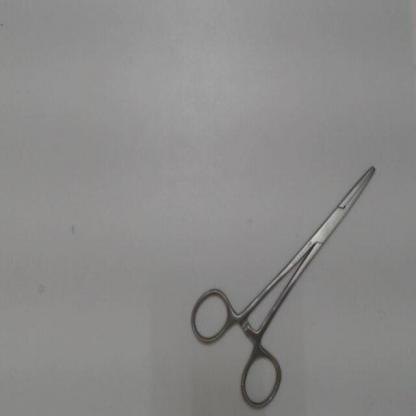Mayo Needle Holder: (184, 151, 390, 413)
